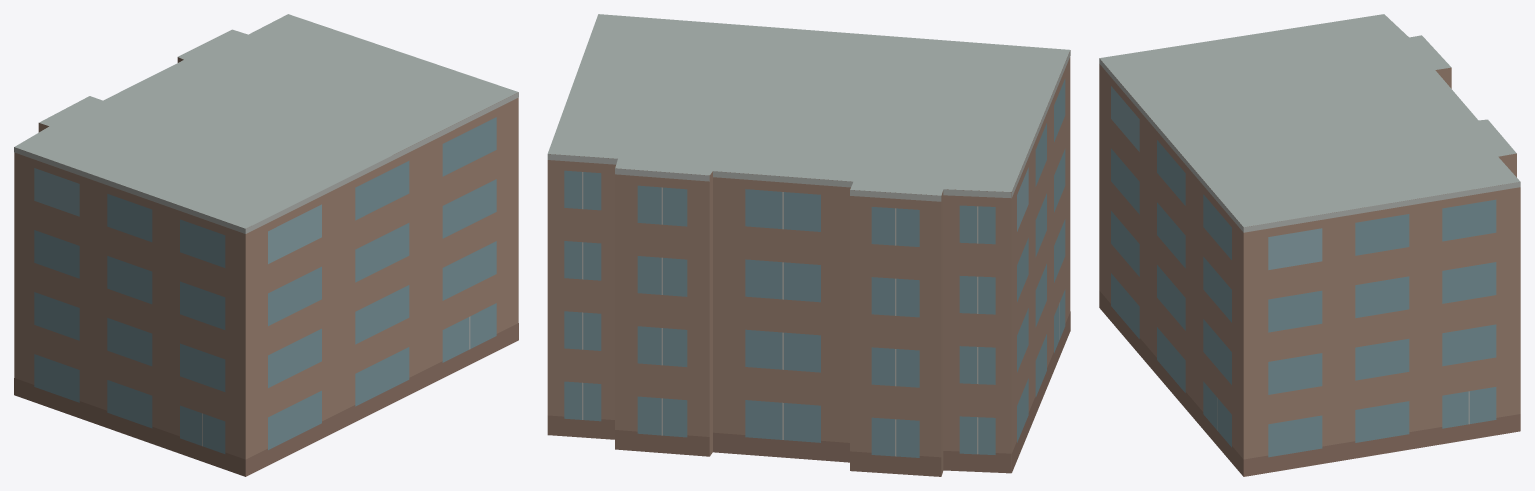
Rendered from survey-upis-33029993.glb.
3 renders of one model, left to right at view 1: azimuth 30°, elevation 25°; view 2: azimuth 150°, elevation 25°; view 3: azimuth 270°, elevation 25°, orthographic. The views are drawn at different scales.
Parts seen in each view (by area): view 1: survey-upis-33029993.tmp; view 2: survey-upis-33029993.tmp; view 3: survey-upis-33029993.tmp.
Boxes of the visible parts, x1,y1,x2,y2 form: survey-upis-33029993.tmp: (14,14,518,476); survey-upis-33029993.tmp: (547,14,1070,476); survey-upis-33029993.tmp: (1099,14,1520,476).
Bounding box in the file's own units: 20.73 × 11.3 × 17.3.
